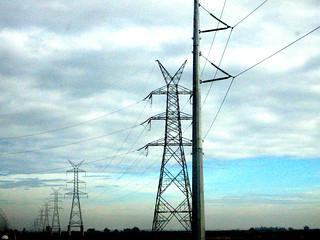power_tower: (144, 53, 198, 233), (63, 155, 91, 235)
